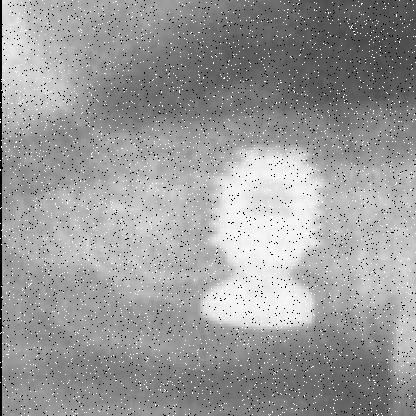Bicon: (199, 142, 327, 265)
